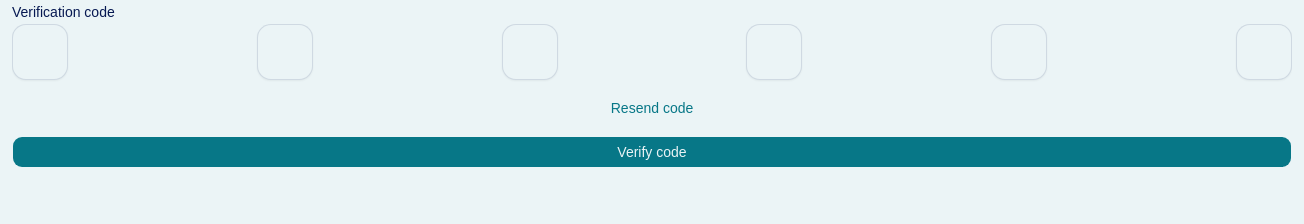
Test: VerifyResetOtpForm › shows fallback server error for generic failure
Type "123456" into the field named "Verification code digit 1" at [40, 52], box [12,24,68,80]
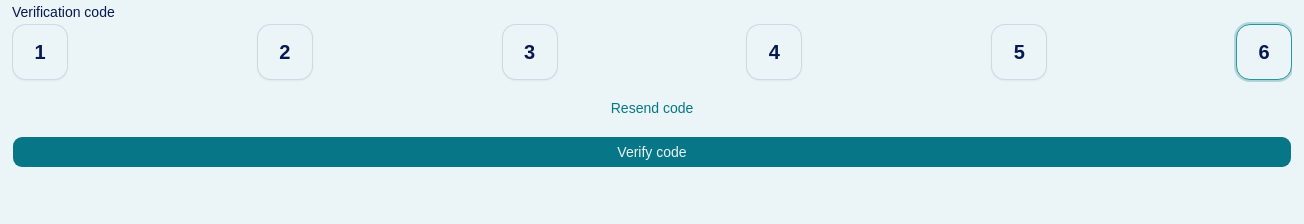
Click the button "Verify code" at [652, 152], box [12,136,1292,168]
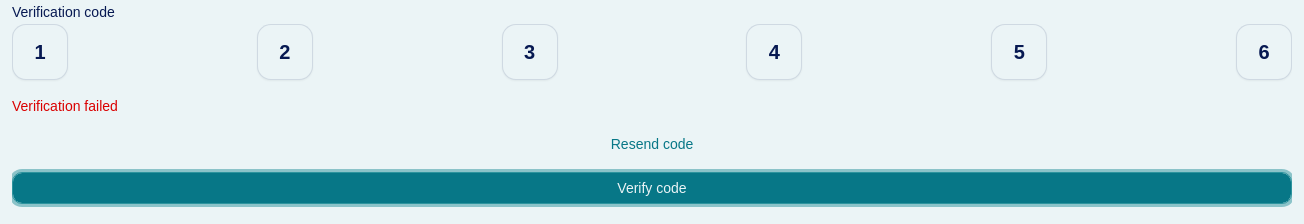
Expected: the text "Verification failed" is shown, [12,98,118,114]
